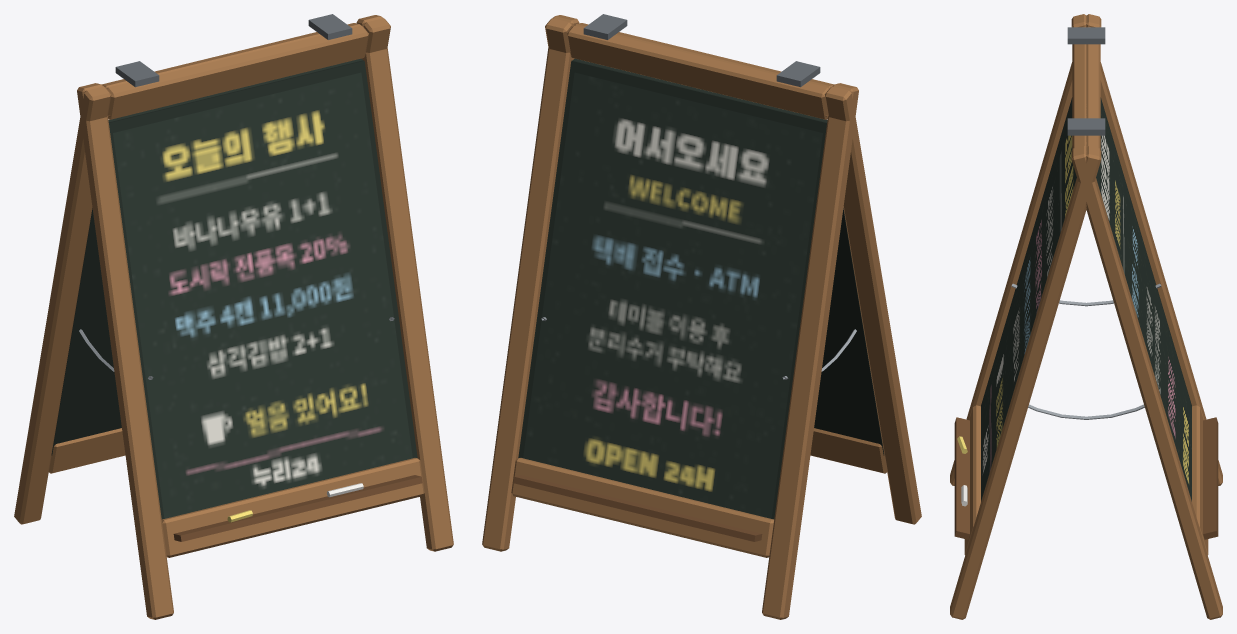
Rendered from SC_Ter_A_Board.gltf.
3 renders of one model, left to right at view 1: azimuth 30°, elevation 25°; view 2: azimuth 150°, elevation 25°; view 3: azimuth 270°, elevation 25°, orthographic. The views are drawn at different scales.
Parts seen in each view (by area): view 1: SC_Ter_A_Board; view 2: SC_Ter_A_Board; view 3: SC_Ter_A_Board.
Boxes of the visible parts, x1=… form: SC_Ter_A_Board: x1=14, y1=14, x2=453, y2=619; SC_Ter_A_Board: x1=482, y1=14, x2=921, y2=619; SC_Ter_A_Board: x1=950, y1=14, x2=1222, y2=619.
Size of the model in its own units: 0.625 by 0.9665 by 0.5065.
2 materials, 2 textured.
